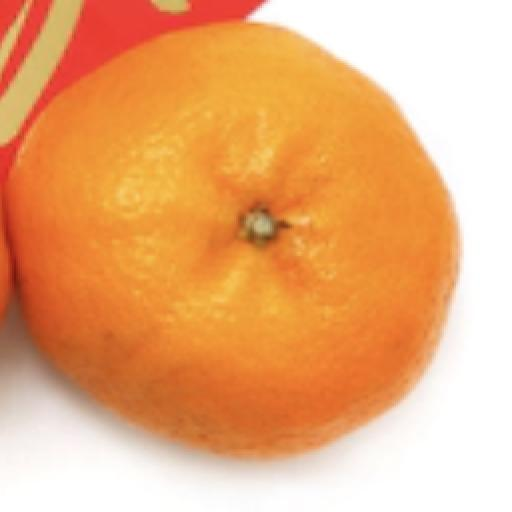orange: (6, 22, 457, 456), (0, 197, 11, 320)
